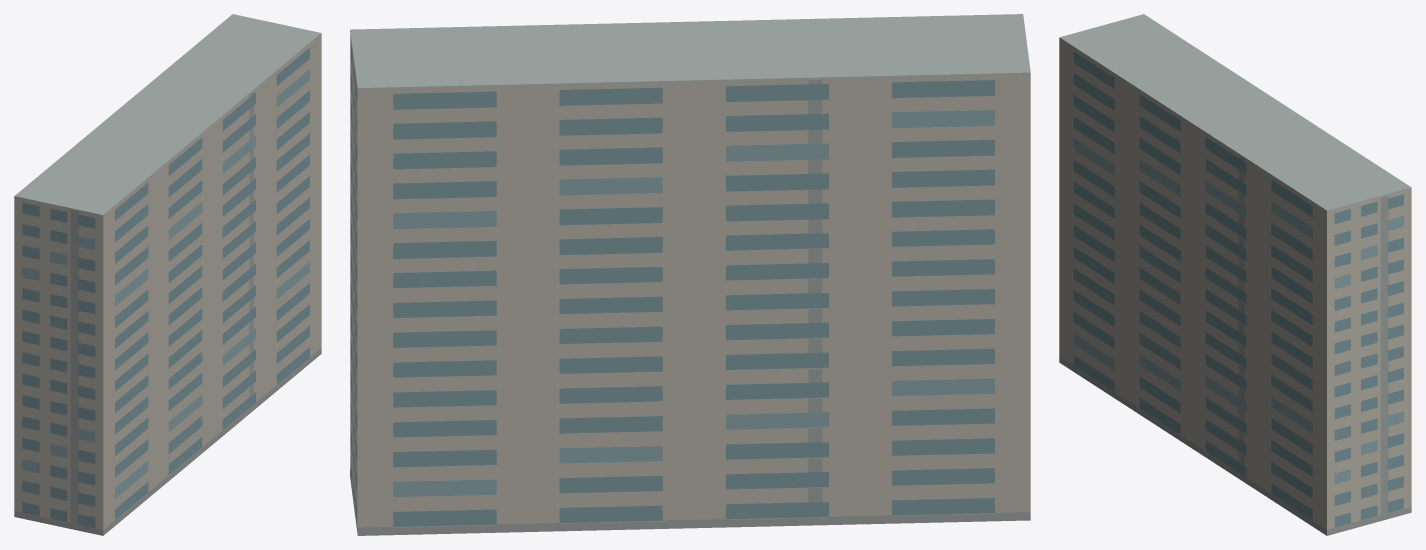
File: residential-8a49fb66-130f-4acc-ab1c-0e692d805fff.glb
3 renders of one model, left to right at view 1: azimuth 30°, elevation 25°; view 2: azimuth 150°, elevation 25°; view 3: azimuth 270°, elevation 25°, orthographic. The views are drawn at different scales.
Visible parts, largest first — view 1: residential-8a49fb66-130f-4acc-ab1c-0e692d805fff.tmp; view 2: residential-8a49fb66-130f-4acc-ab1c-0e692d805fff.tmp; view 3: residential-8a49fb66-130f-4acc-ab1c-0e692d805fff.tmp.
Boxes of the visible parts, x1,y1,x2,y2 form: residential-8a49fb66-130f-4acc-ab1c-0e692d805fff.tmp: [14, 14, 321, 535]; residential-8a49fb66-130f-4acc-ab1c-0e692d805fff.tmp: [350, 14, 1030, 535]; residential-8a49fb66-130f-4acc-ab1c-0e692d805fff.tmp: [1059, 14, 1411, 535].
Size of the model in its own units: 54.44 by 42 by 41.2.
